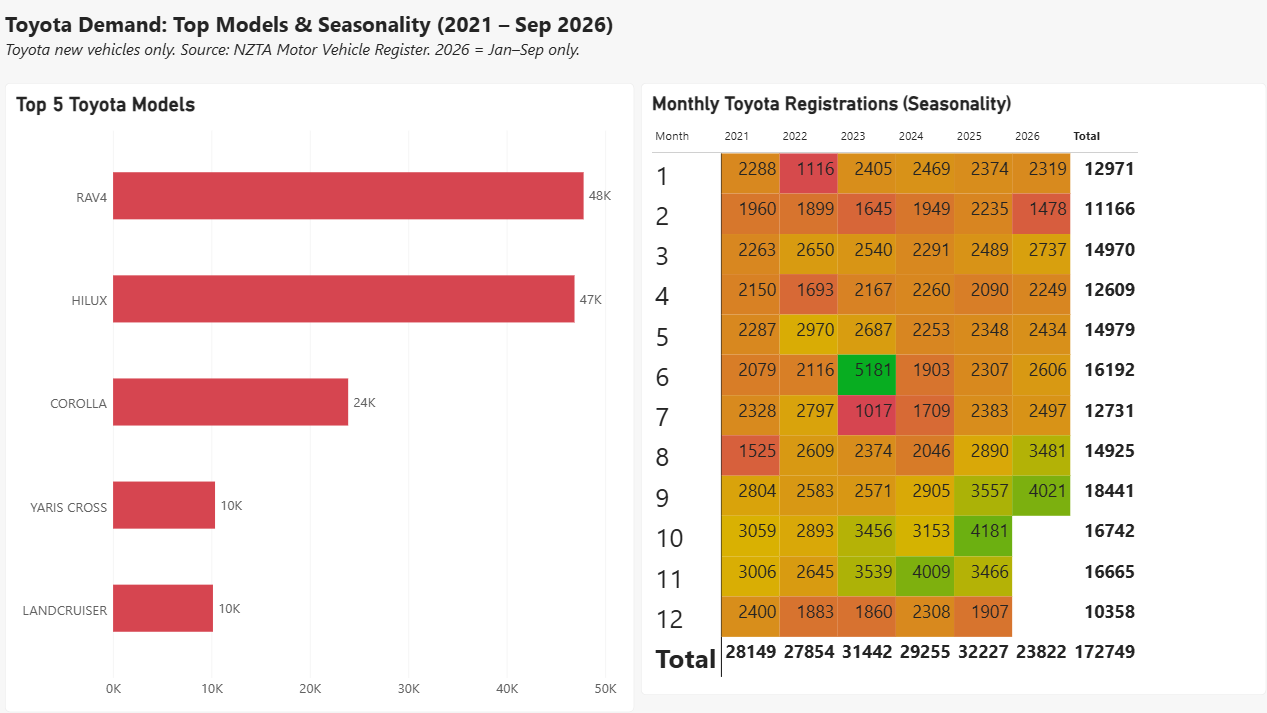

What the dashboard file says about the page in this screenshot:
{"tool":"powerbi","page":{"name":"Toyota Demand","canvas":[1920,1080],"ordinal":1},"visuals":[{"type":"textbox","box":[9.1,15.9,951.7,75],"z":0},{"type":"clusteredBarChart","title":"Top 5 Toyota Models","fields":{"Category":["Sales.MODEL"],"Y":["Sales.Total Registrations"]},"box":[8.5,127.6,952.4,952.4],"z":1000},{"type":"pivotTable","title":"Monthly Toyota Registrations (Seasonality)","fields":{"Columns":["Sales.FIRST_NZ_REGISTRATION_YEAR"],"Rows":["Sales.FIRST_NZ_REGISTRATION_MONTH"],"Values":["Sales.Total Registrations"]},"box":[972.3,127.6,946.8,926.9],"z":2000}]}

Visuals, with their boxes in screenshot pixels (x1, y1, x2, y2), scaled from the page's 1920x1080 canvas onto the 1267x713 screenshot:
textbox: (left=6, top=10, right=634, bottom=60)
"Top 5 Toyota Models" clusteredBarChart: (left=6, top=84, right=634, bottom=712)
"Monthly Toyota Registrations (Seasonality)" pivotTable: (left=642, top=84, right=1266, bottom=696)
